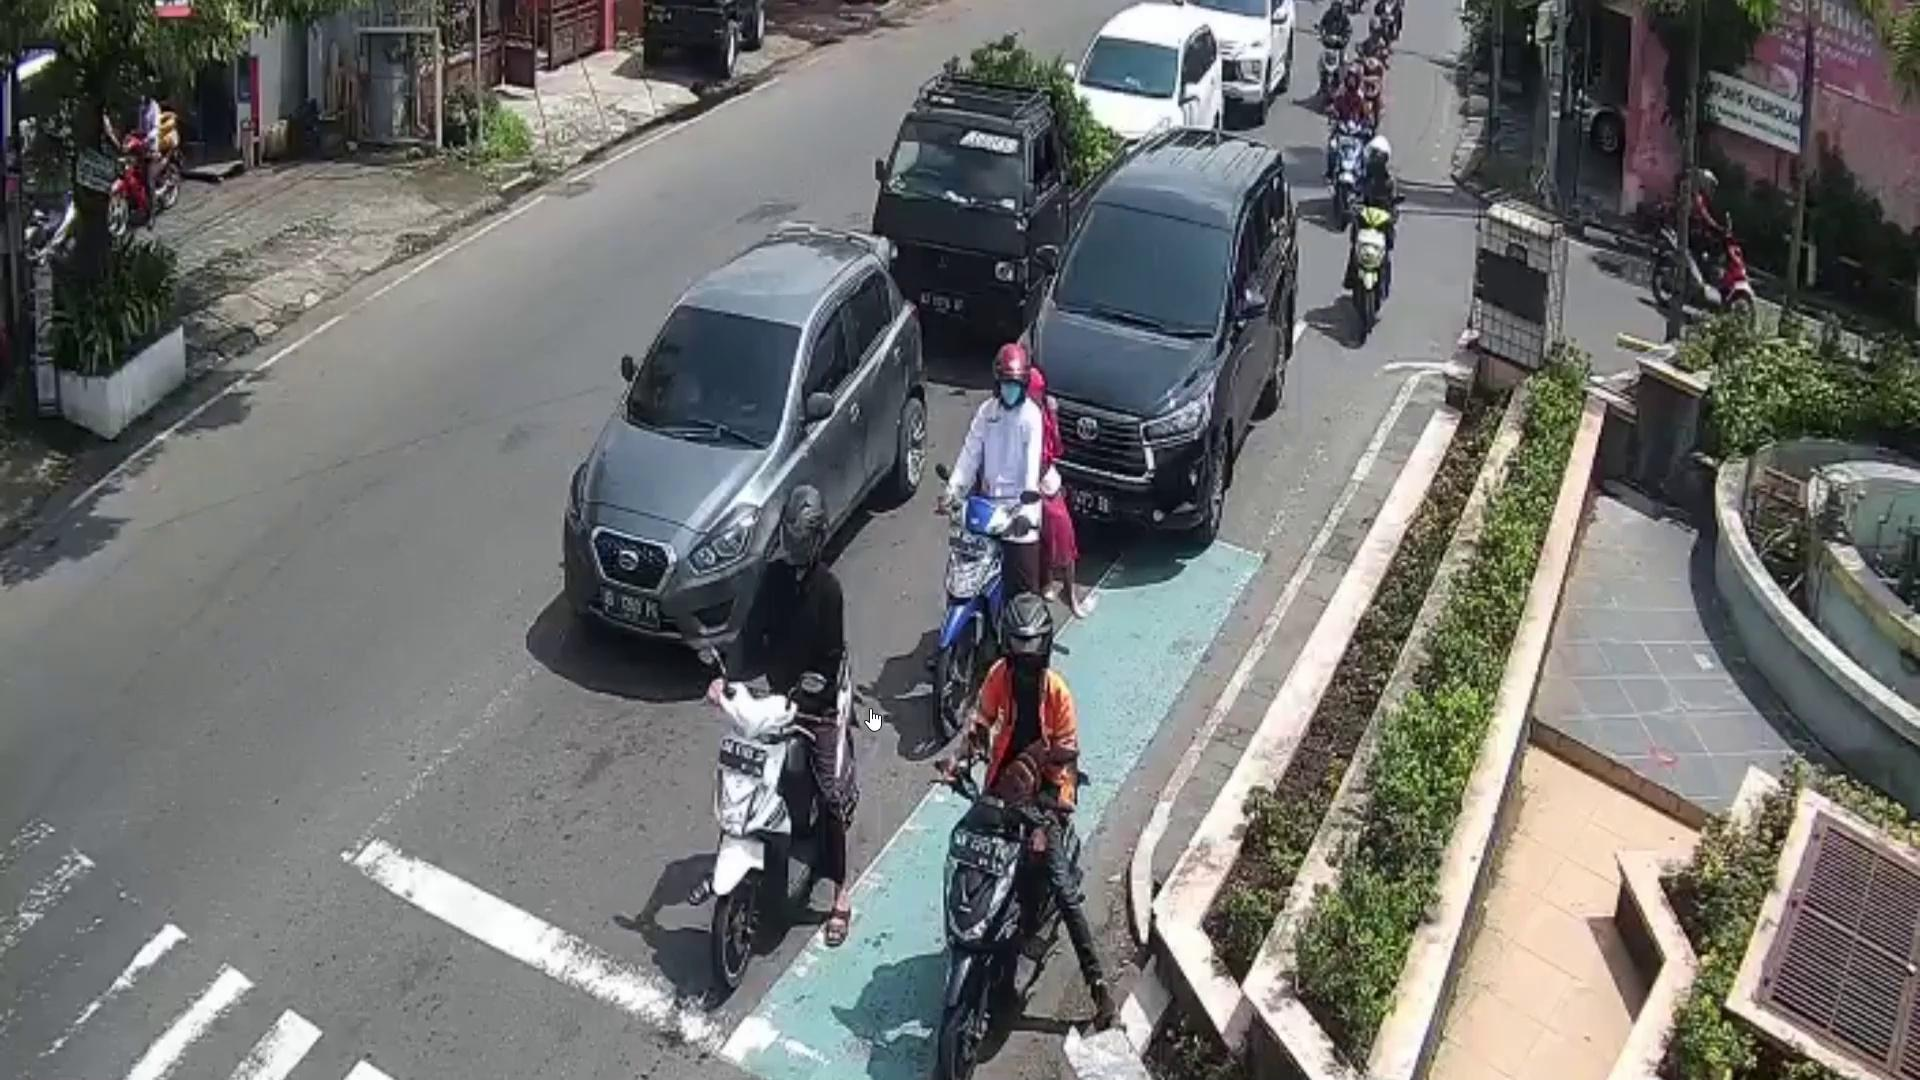car: (562, 222, 926, 663), (1022, 131, 1302, 543), (870, 71, 1127, 336), (1076, 0, 1229, 141), (1168, 0, 1305, 115)
motorbike: (704, 658, 869, 984), (939, 773, 1080, 1080), (943, 493, 1029, 725), (1654, 228, 1756, 334), (1345, 203, 1390, 335), (1331, 119, 1367, 215)
